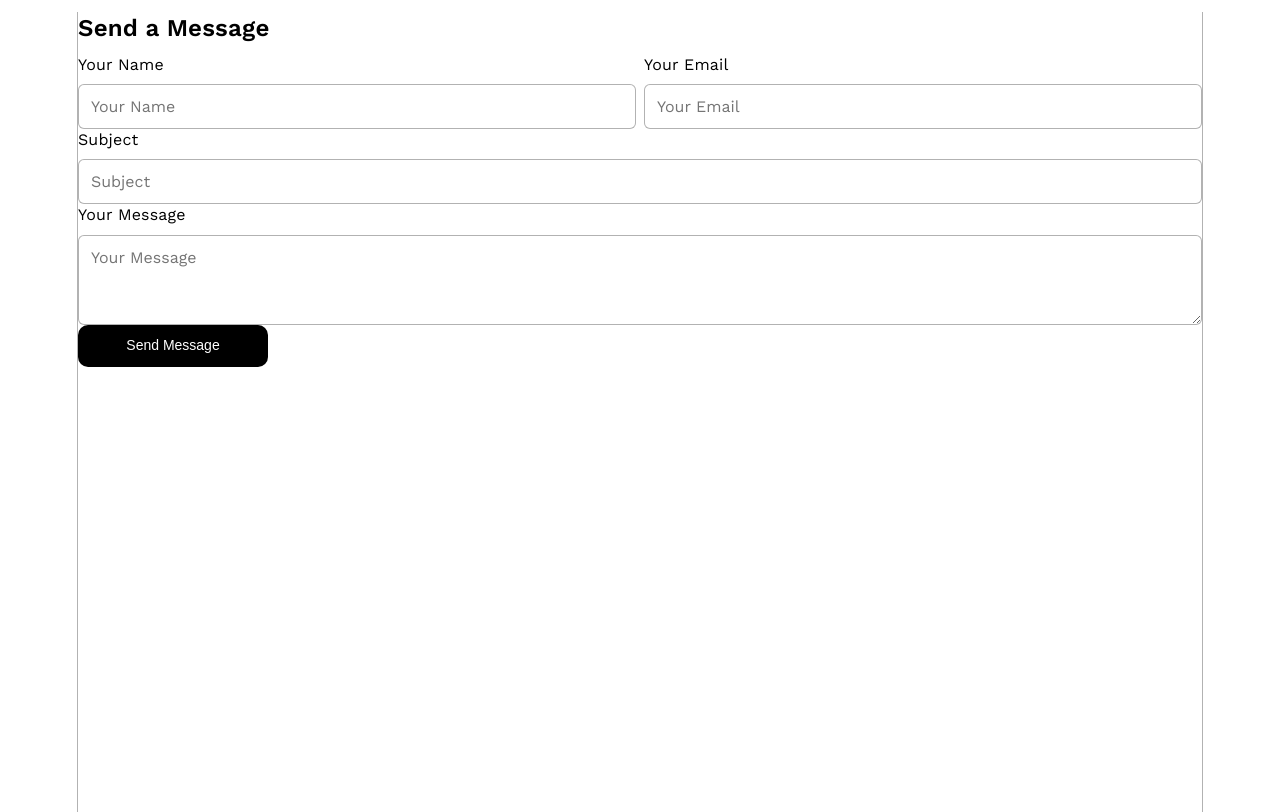
it: ContactForm › shows the Web3Forms error message when submission fails
The image size is (1280, 812).
In the field labelled "Your Name": [357, 106] box [78, 84, 636, 129], type "Ada Lovelace"
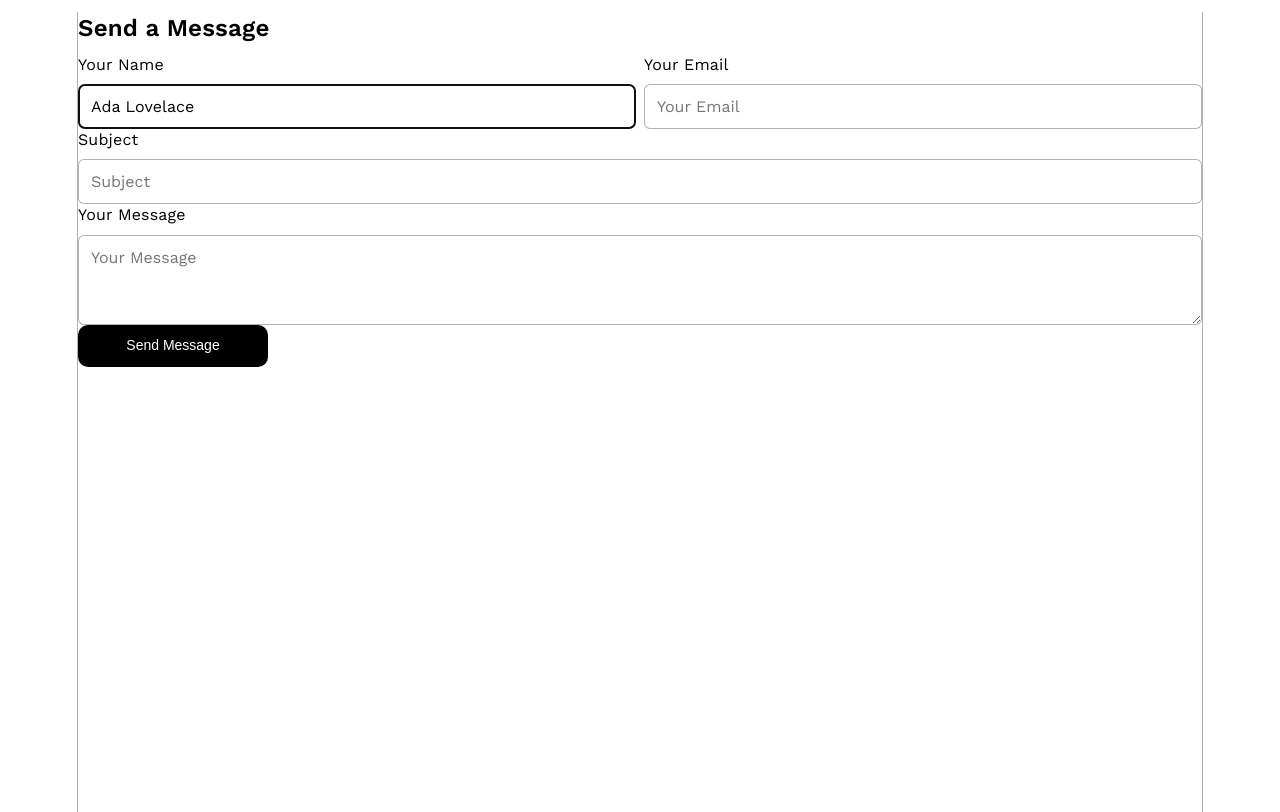
In the field labelled "Your Email": [923, 106] box [644, 84, 1202, 129], type "ada@example.com"
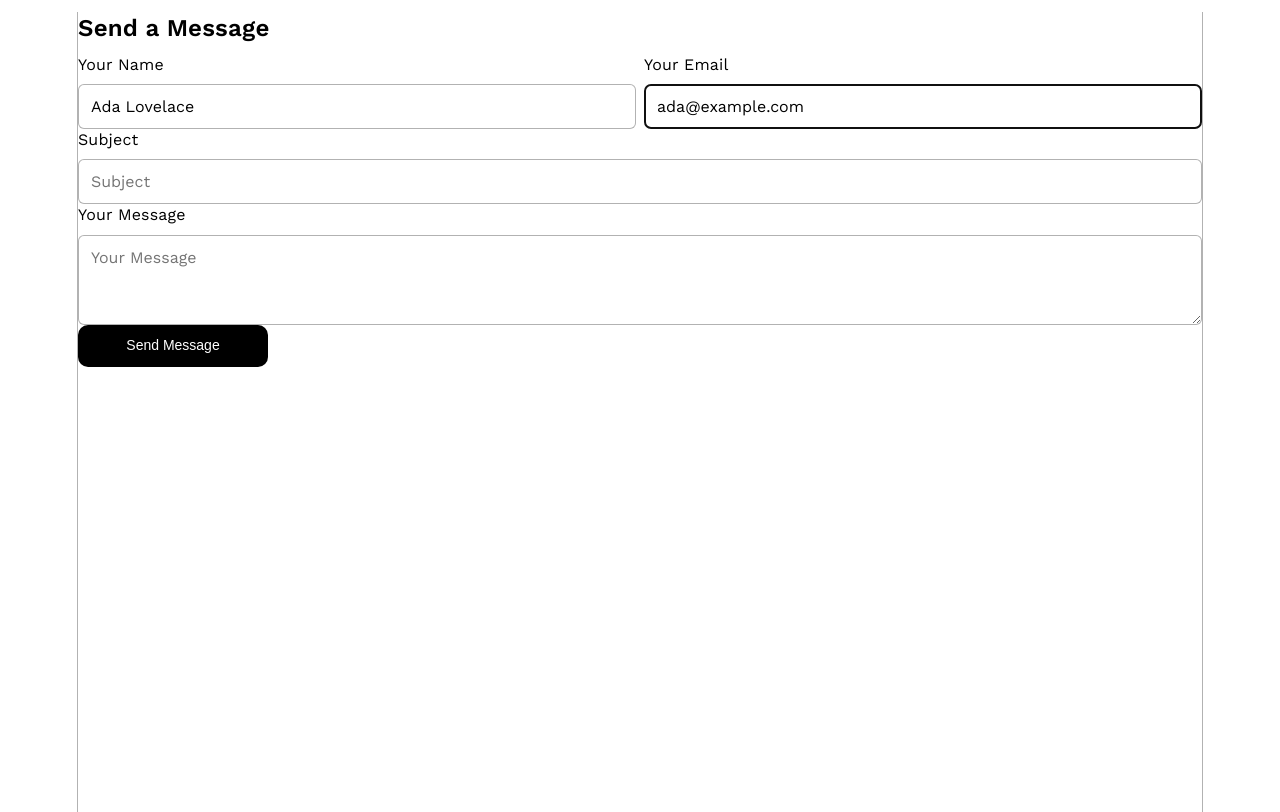
In the text box labelled "Your Message": [640, 280] box [78, 235, 1202, 325], type "Hello there"
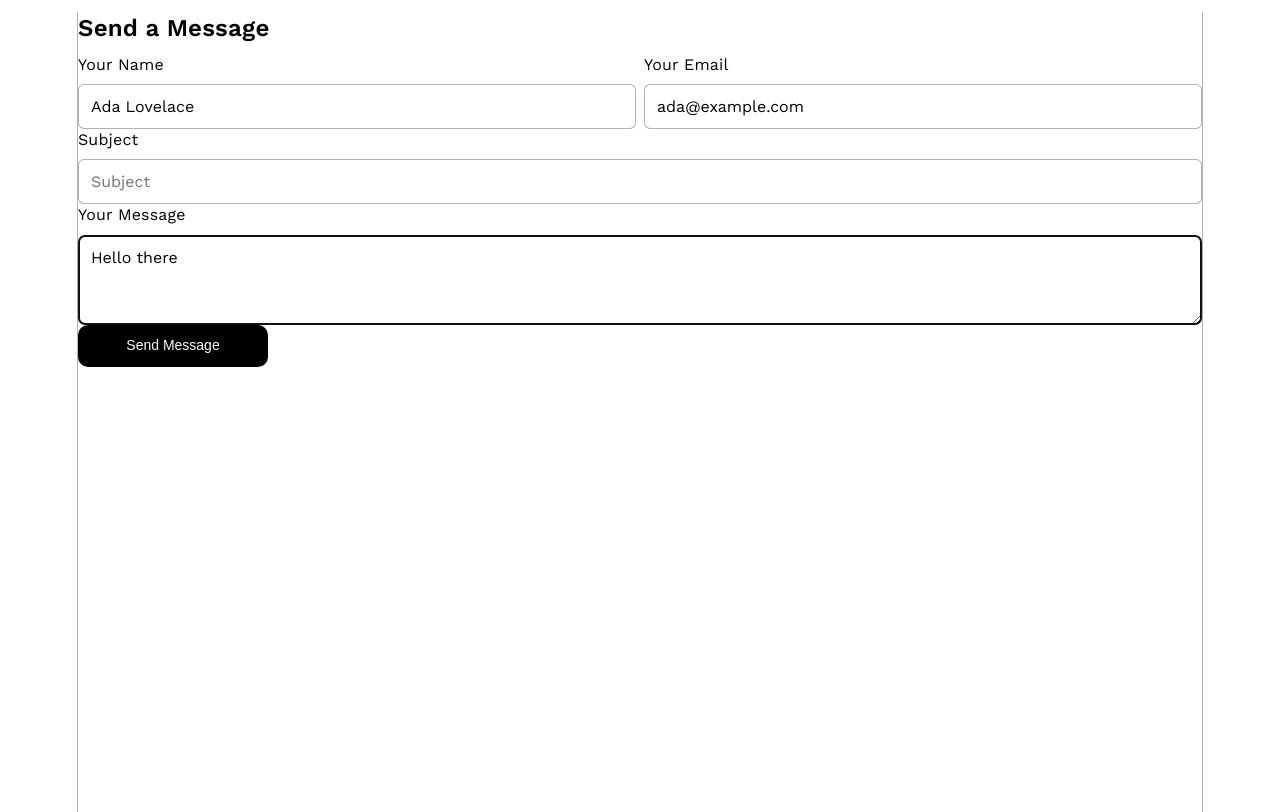
Click the button "Send Message": [173, 346] box [78, 325, 268, 367]
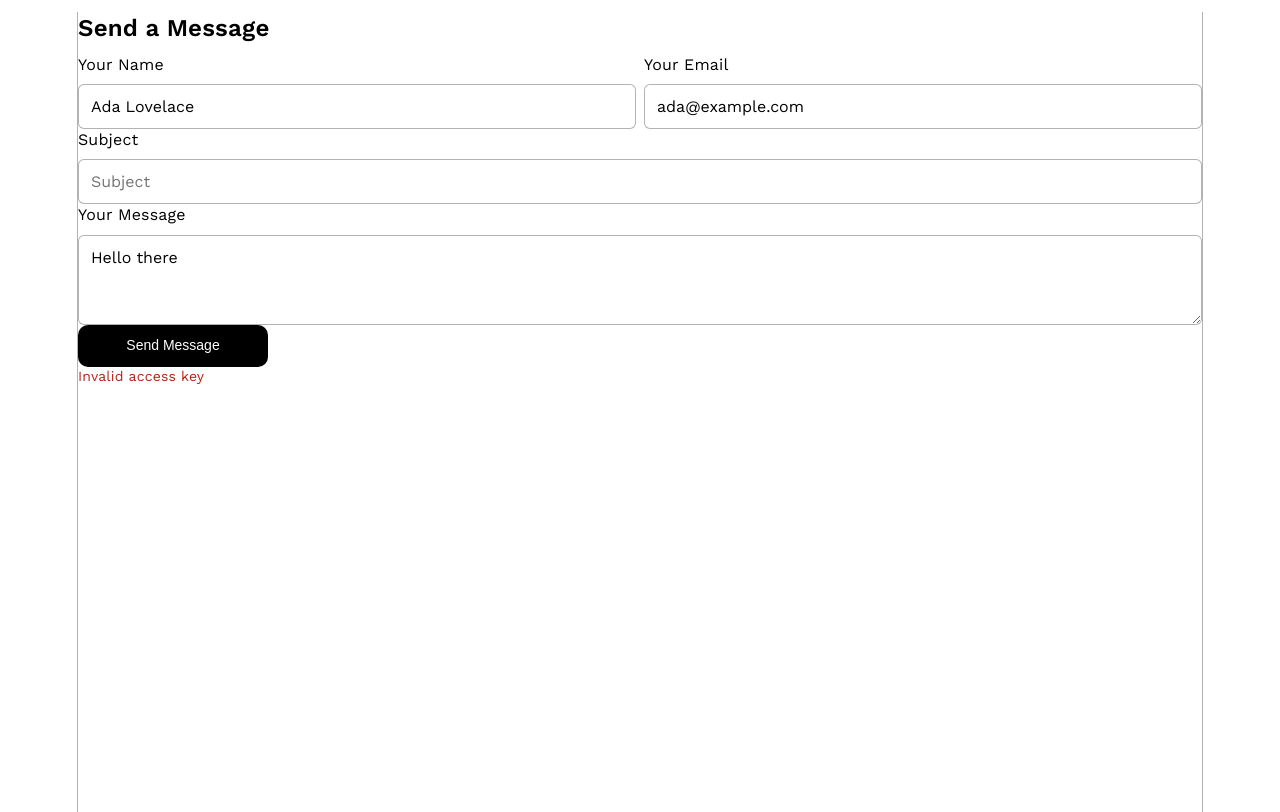
Now the text "Invalid access key" is shown, box [78, 368, 204, 384]
